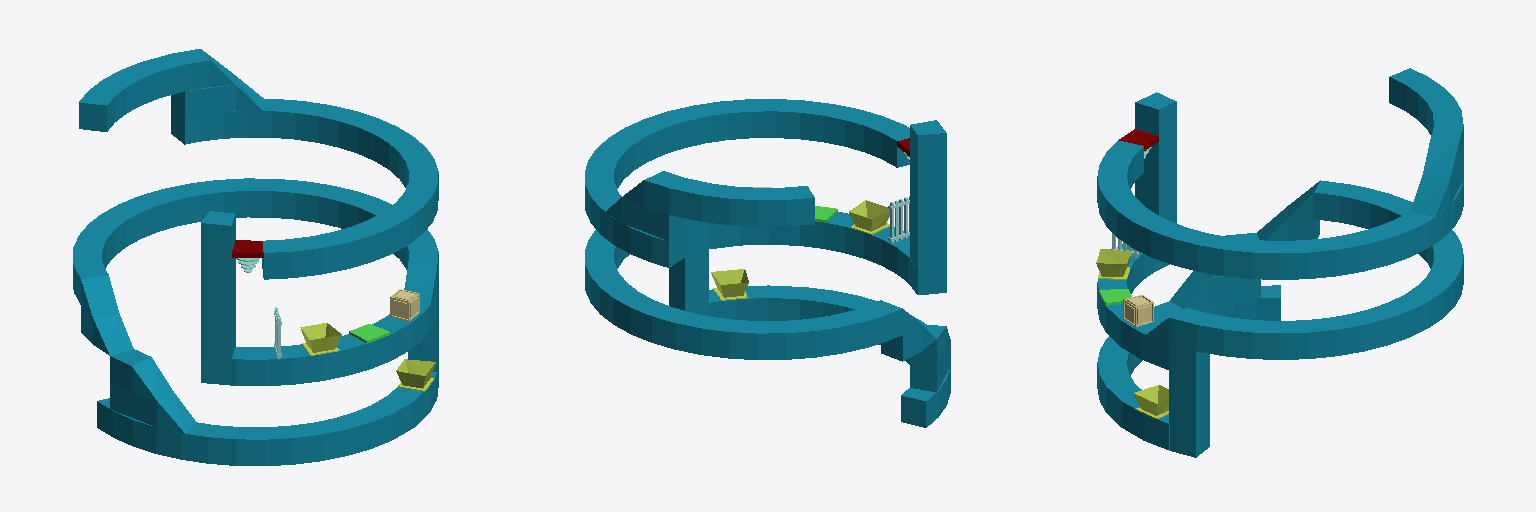
The model's file is TestLevel.obj.
3 views of the same model, side by side, from view 1: azimuth 30°, elevation 25°; view 2: azimuth 150°, elevation 25°; view 3: azimuth 270°, elevation 25° (orthographic).
Visible parts, largest first — view 1: 45_WalkWay054, 45_WalkWay053, 45_WalkWay046, 45_WalkWay063, 45_WalkWay051, 2x2_Ramp005, 45_WalkWay060, 45_WalkWay058, 2x2_Ramp006, 45_WalkWay057, 45_WalkWay062, 45_WalkWay050 (+15 smaller); view 2: 45_WalkWay063, 45_WalkWay050, 45_WalkWay053, 45_WalkWay058, 45_WalkWay059, 45_WalkWay057, 45_WalkWay051, 45_WalkWay047, 45_WalkWay046, 2x2_Ramp006, 45_WalkWay062, 45_WalkWay056 (+11 smaller); view 3: 45_WalkWay059, 45_WalkWay060, 45_WalkWay052, 45_WalkWay056, 45_WalkWay053, 45_WalkWay048, 2x2_Ramp006, 45_WalkWay057, 45_WalkWay058, 45_WalkWay051, 45_WalkWay063, 45_WalkWay047 (+14 smaller).
Boxes of the visible parts, x1,y1,x2,y2 form: 45_WalkWay054: [208, 419, 346, 465]; 45_WalkWay053: [201, 211, 235, 358]; 45_WalkWay046: [201, 343, 346, 385]; 45_WalkWay063: [79, 54, 184, 131]; 45_WalkWay051: [165, 178, 302, 225]; 2x2_Ramp005: [110, 349, 196, 433]; 45_WalkWay060: [295, 101, 412, 169]; 45_WalkWay058: [333, 193, 432, 268]; 2x2_Ramp006: [171, 49, 263, 117]; 45_WalkWay057: [333, 372, 436, 455]; 45_WalkWay062: [171, 99, 302, 144]; 45_WalkWay050: [79, 189, 178, 264]; 45_WalkWay063: [669, 178, 814, 226]; 45_WalkWay050: [676, 313, 814, 359]; 45_WalkWay053: [910, 120, 946, 268]; 45_WalkWay058: [720, 99, 858, 146]; 45_WalkWay059: [609, 102, 727, 169]; 45_WalkWay057: [709, 285, 857, 320]; 45_WalkWay051: [591, 273, 690, 349]; 45_WalkWay047: [709, 212, 852, 252]; 45_WalkWay046: [845, 221, 946, 294]; 2x2_Ramp006: [606, 171, 684, 240]; 45_WalkWay062: [591, 193, 684, 267]; 45_WalkWay056: [669, 223, 708, 315]; 45_WalkWay059: [1151, 222, 1280, 279]; 45_WalkWay060: [1281, 222, 1409, 279]; 45_WalkWay052: [1281, 302, 1409, 359]; 45_WalkWay056: [1169, 344, 1209, 457]; 45_WalkWay053: [1135, 92, 1176, 223]; 45_WalkWay048: [1174, 309, 1280, 359]; 2x2_Ramp006: [1411, 126, 1463, 216]; 45_WalkWay057: [1097, 363, 1169, 450]; 45_WalkWay058: [1097, 176, 1170, 256]; 45_WalkWay051: [1390, 256, 1463, 336]; 45_WalkWay063: [1389, 68, 1463, 134]; 45_WalkWay047: [1097, 283, 1168, 369].
Size of the model in its own units: 12.46 by 10 by 12.51.